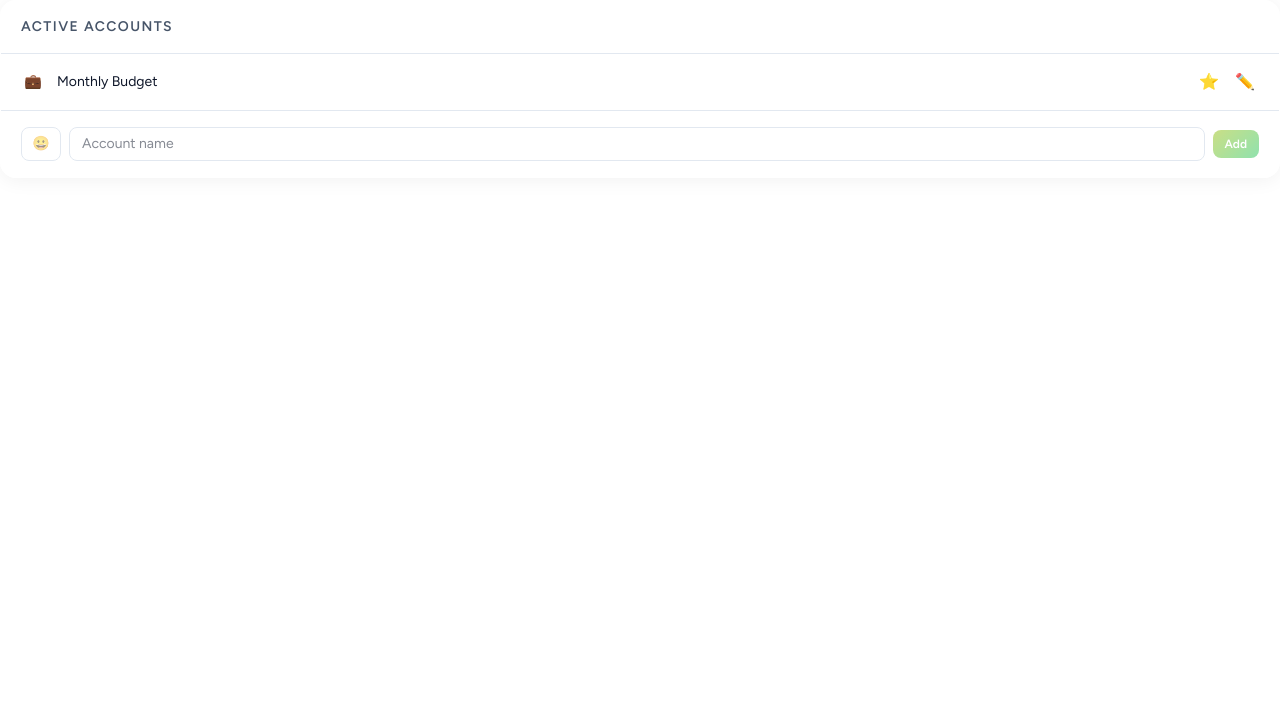
Scenario: AccountsTab — active accounts rendering › edit modal for default shows both name and emoji as editable with note about deletion
Click the button named "Edit Monthly Budget" at (1245, 82), box [1231,66,1259,98]
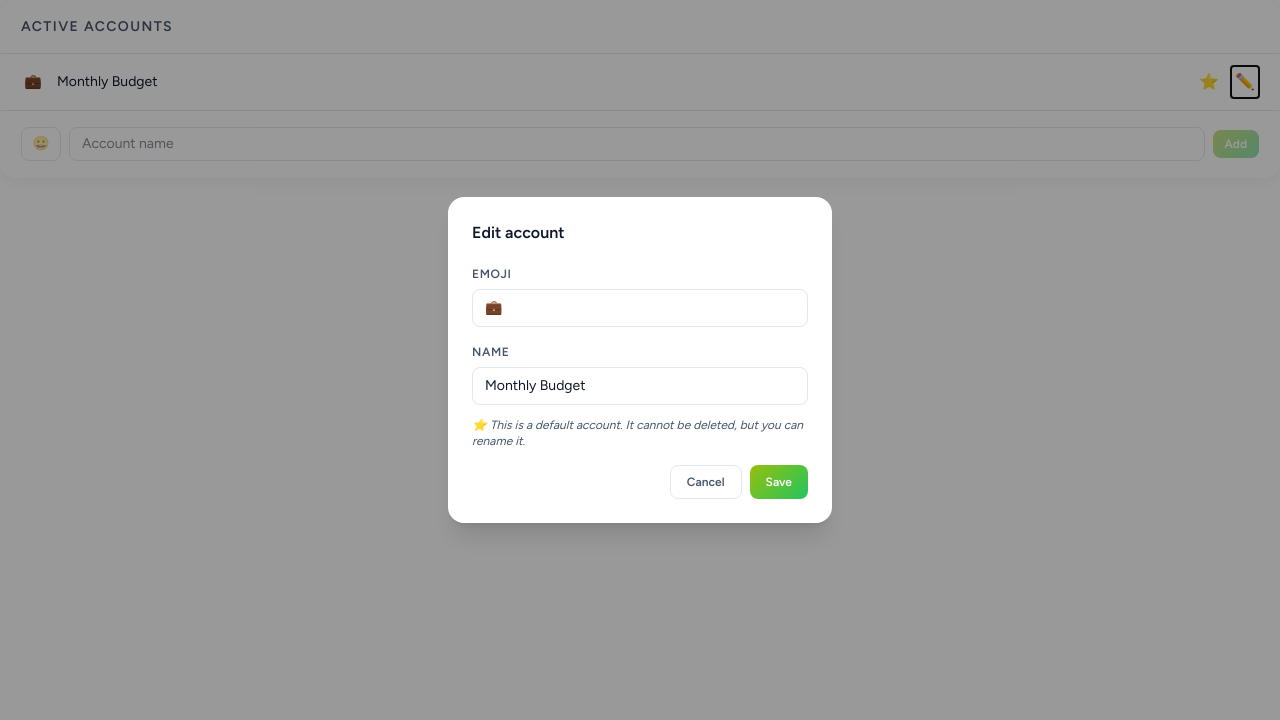
Expected: the dialog "Edit account" is shown
Expected: the field named "Emoji" is shown, [472,289,808,327]
Expected: the field named "Name" is shown, [472,367,808,405]
